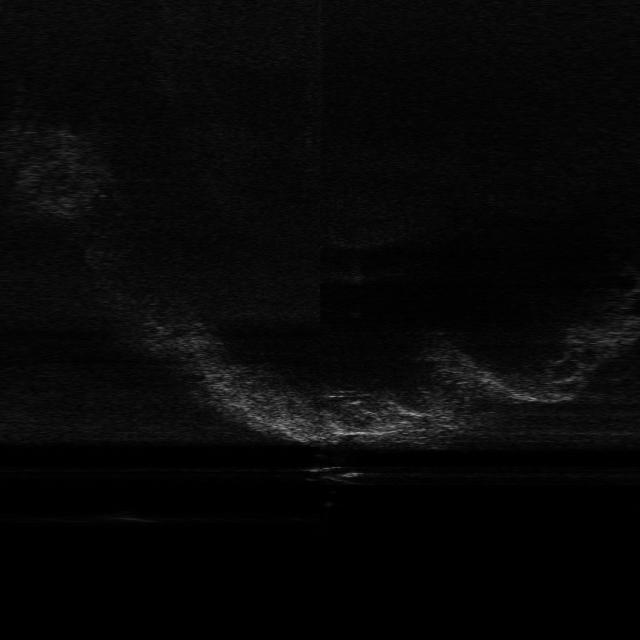plane: (298, 462, 379, 487)
